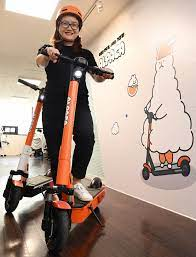kick_wheel: (44, 202, 68, 255), (4, 179, 23, 212)
